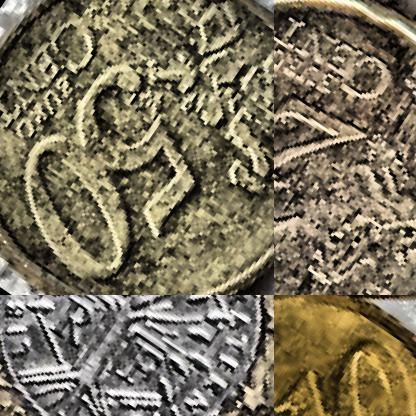coin: (0, 0, 273, 294), (274, 0, 415, 294), (0, 295, 273, 415), (274, 295, 415, 415)
